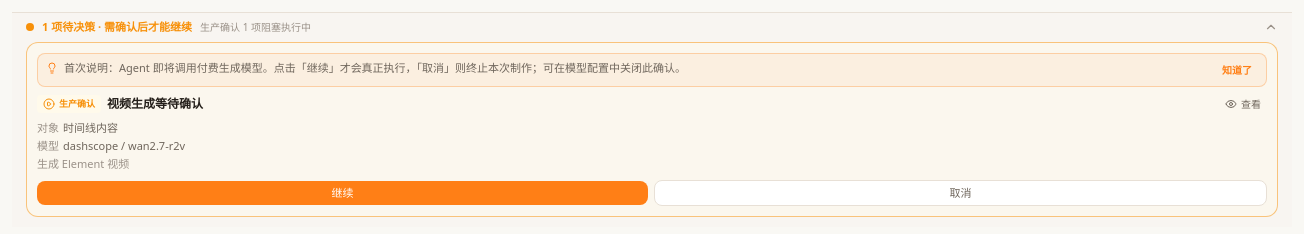
Test case: file-native execution authorization decisions › keeps the amber summary line when collapsed with a blocking authorization
Click the button with aria-label "折叠决策托盘". click: (73, 26)
box: [12, 13, 1292, 42]
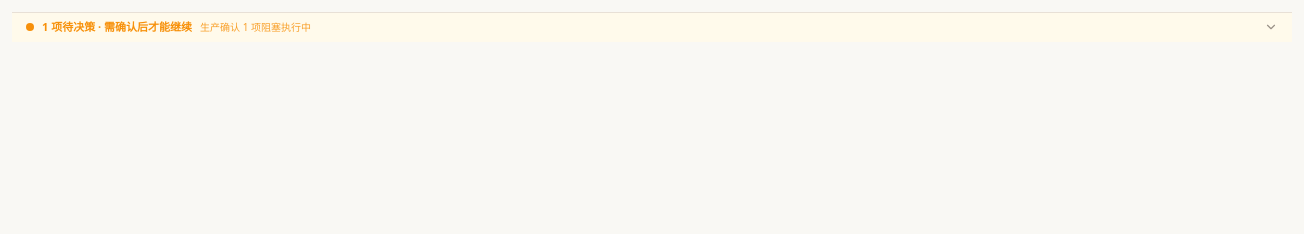
Check: the text "生产确认 1 项阻塞执行中" is shown, box [200, 20, 311, 34]
Check: the text "生成 Element 视频" is gone
